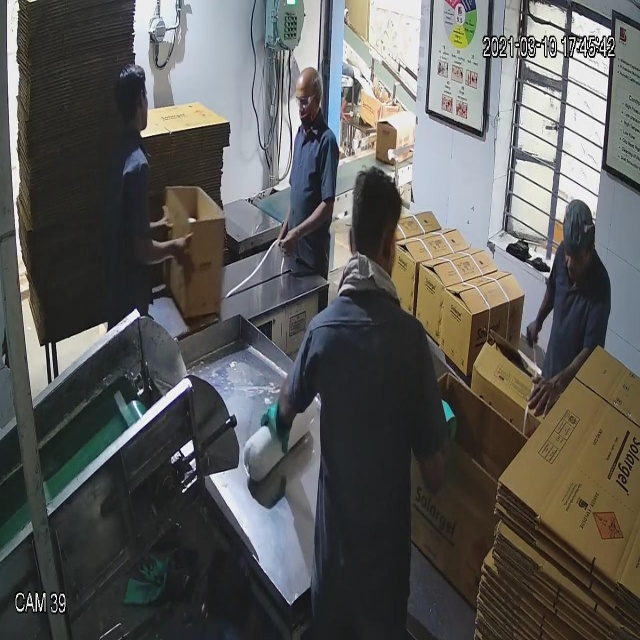Guantes: (255, 376, 299, 468)
Sin_guantes: (526, 348, 608, 427), (280, 184, 341, 264), (525, 258, 568, 356), (139, 220, 202, 285), (141, 197, 177, 253)
